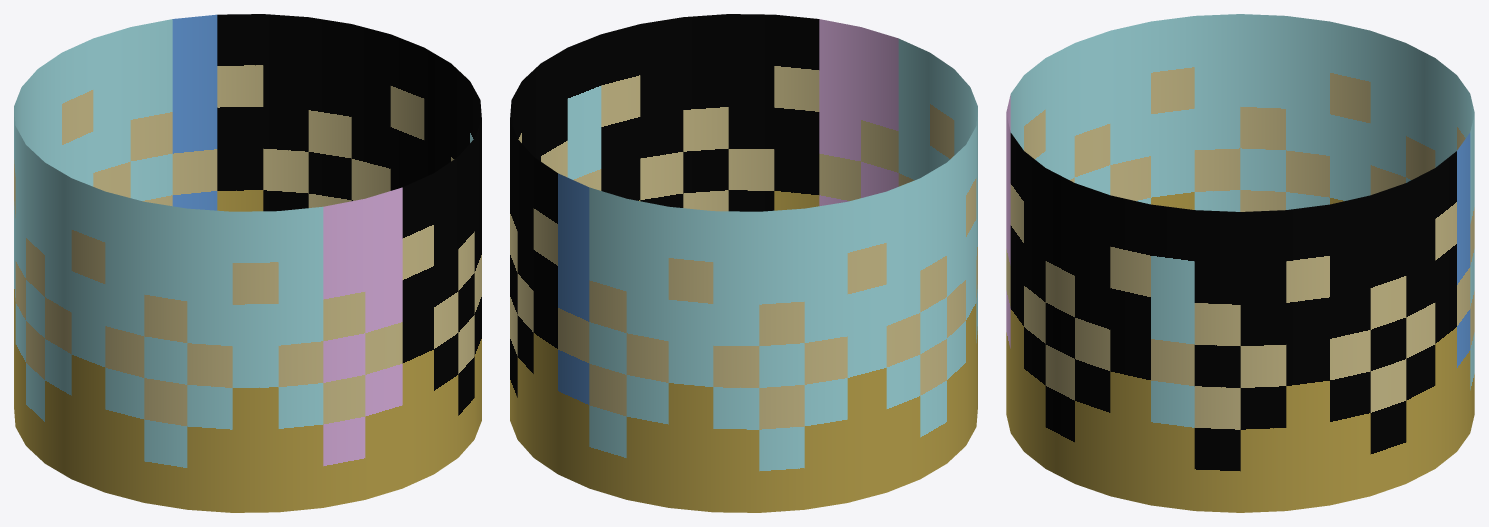
Rendered from goal.glb.
The picture shows the model from 3 angles, left to right: view 1: azimuth 30°, elevation 25°; view 2: azimuth 150°, elevation 25°; view 3: azimuth 270°, elevation 25°; orthographic projection.
Parts seen in each view (by area): view 1: Cylinder; view 2: Cylinder; view 3: Cylinder.
Boxes of the visible parts, <box> form: Cylinder: <box>14,14,481,512</box>; Cylinder: <box>510,14,977,512</box>; Cylinder: <box>1006,14,1474,512</box>.
Bounding box in the file's own units: 2 × 1.42 × 2.
Materials: 1 (1 with a texture image).
